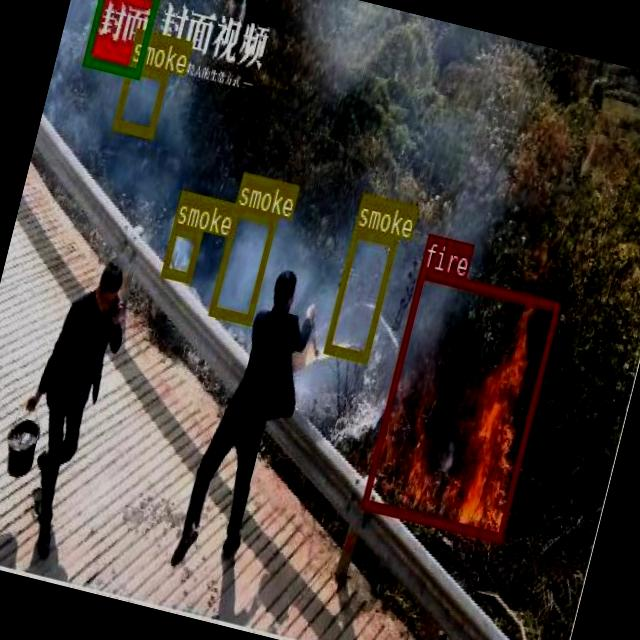fire: (360, 266, 560, 540)
smoke: (322, 224, 397, 362), (207, 204, 276, 324), (112, 60, 168, 137), (160, 222, 202, 280)
